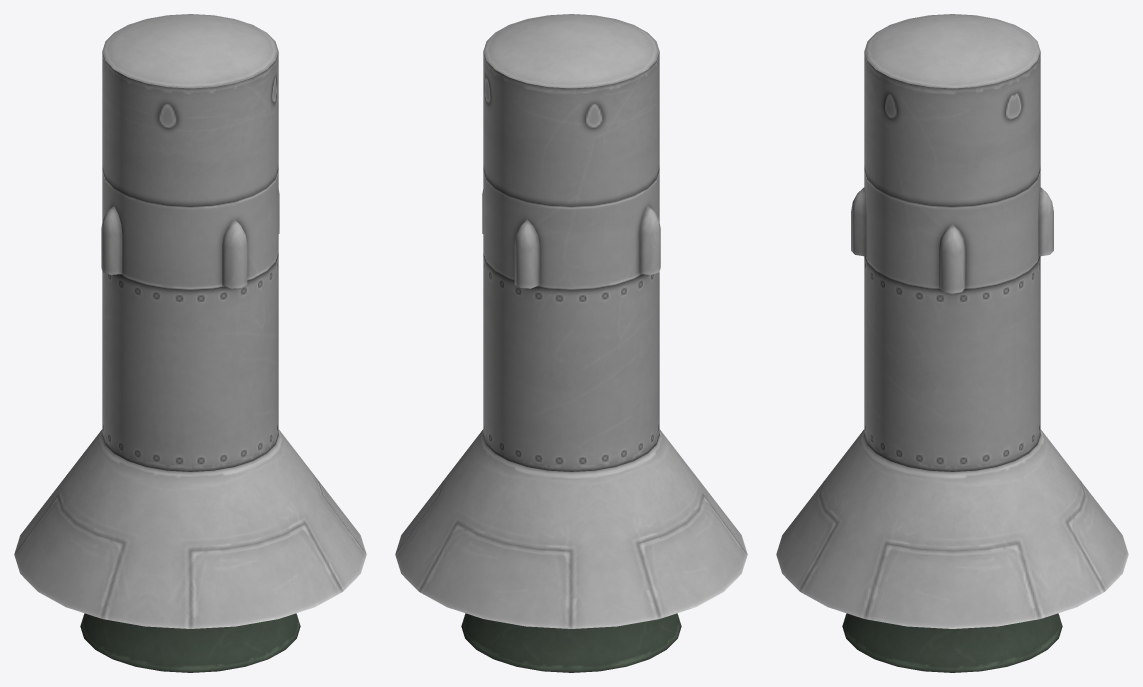
Rendered from alnair_les_s0_1.obj.
The picture shows the model from 3 angles, left to right: view 1: azimuth 30°, elevation 25°; view 2: azimuth 150°, elevation 25°; view 3: azimuth 270°, elevation 25°; orthographic projection.
Parts seen in each view (by area): view 1: mesh1; view 2: mesh1; view 3: mesh1.
Boxes of the visible parts, x1,y1,x2,y2 form: mesh1: (14,14,366,672); mesh1: (395,14,747,672); mesh1: (776,14,1128,672).
Size of the model in its own units: 1 by 1.85 by 1.
1 material, 1 textured.
